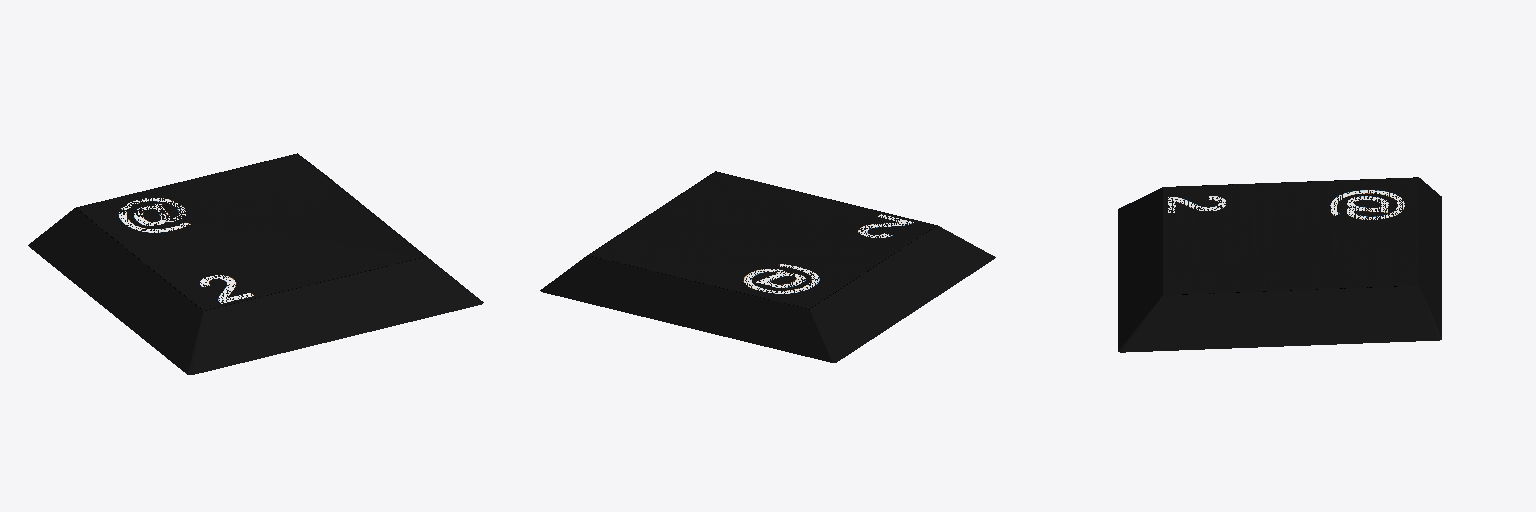
The picture shows the model from 3 angles: view 1: azimuth 30°, elevation 25°; view 2: azimuth 150°, elevation 25°; view 3: azimuth 270°, elevation 25°; orthographic projection.
Parts seen in each view (by area): view 1: Group11/mesh9/mesh9-geometry#mesh9-geometry; view 2: Group11/mesh9/mesh9-geometry#mesh9-geometry; view 3: Group11/mesh9/mesh9-geometry#mesh9-geometry.
Boxes of the visible parts, x1=… form: Group11/mesh9/mesh9-geometry#mesh9-geometry: x1=28, y1=153, x2=483, y2=374; Group11/mesh9/mesh9-geometry#mesh9-geometry: x1=540, y1=171, x2=995, y2=362; Group11/mesh9/mesh9-geometry#mesh9-geometry: x1=1118, y1=177, x2=1441, y2=352.
Size of the model in its own units: 0.0754 by 0.0119 by 0.0715.
Materials: 2 (1 with a texture image).